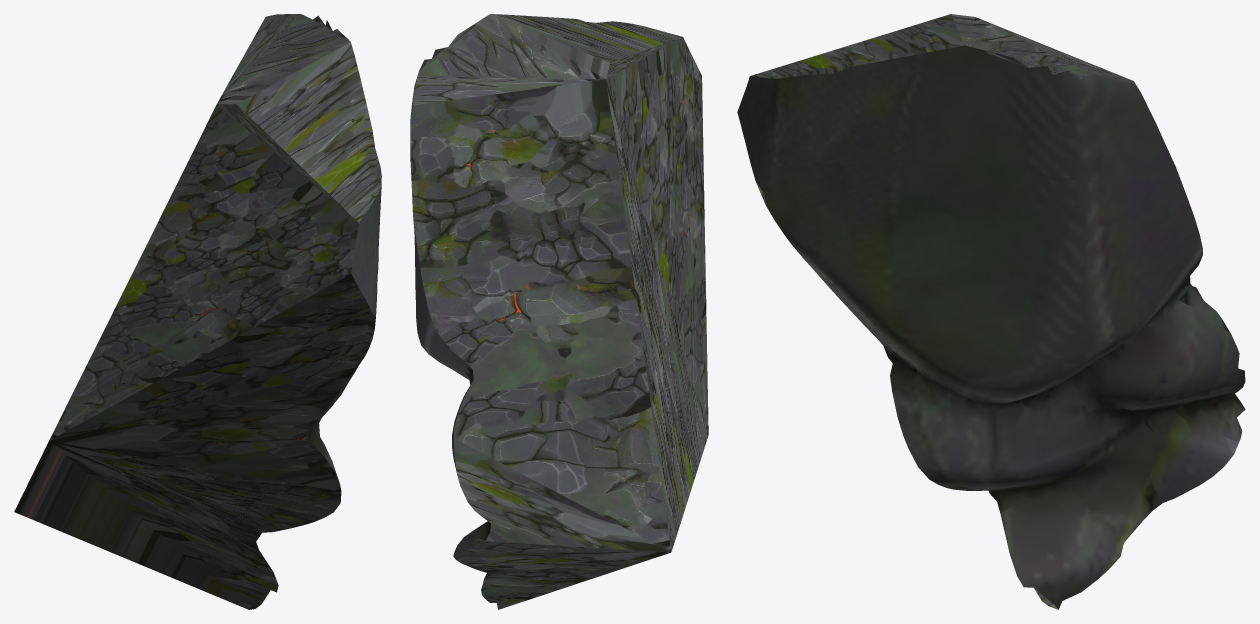
File: Frag_26.gltf
3 renders of one model, left to right at view 1: azimuth 30°, elevation 25°; view 2: azimuth 150°, elevation 25°; view 3: azimuth 270°, elevation 25°, orthographic. The views are drawn at different scales.
Visible parts, largest first — view 1: Frag_26; view 2: Frag_26; view 3: Frag_26.
Part boxes in pixels (x1,y1,x2,y2): Frag_26: [14, 14, 381, 609]; Frag_26: [410, 14, 708, 609]; Frag_26: [737, 14, 1245, 609].
Size of the model in its own units: 0.1991 by 0.3881 by 0.3023.
Materials: 1 (1 with a texture image).
